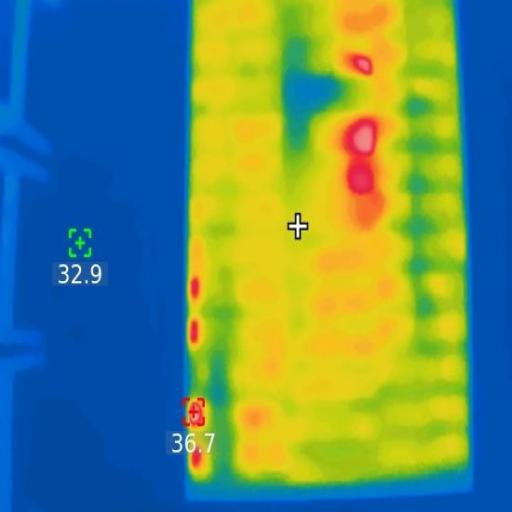hotspot: (339, 156, 383, 199), (339, 114, 381, 154), (343, 50, 380, 80), (182, 399, 210, 429), (184, 319, 204, 349), (188, 448, 208, 469), (188, 278, 203, 302)
